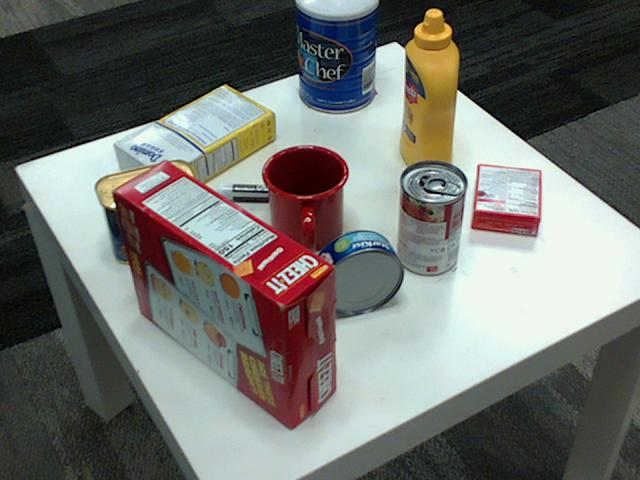cracker_box: (111, 159, 336, 426)
gelatin_box: (473, 163, 542, 234)
large_marker: (215, 186, 321, 202)
master_chef_can: (294, 0, 376, 112)
mug: (262, 141, 350, 250)
mustard_bottle: (399, 10, 457, 177)
potted_meat_can: (95, 159, 202, 264)
sugar_box: (115, 83, 277, 199)
tomato_soup_can: (396, 160, 466, 274)
tuna_fish_can: (314, 229, 404, 313)
